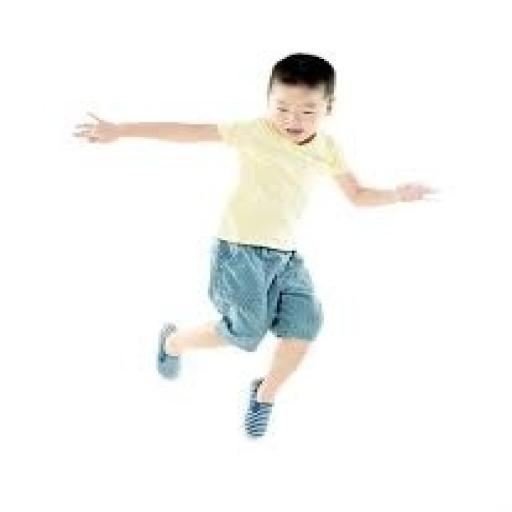dancing: (70, 50, 440, 442)
